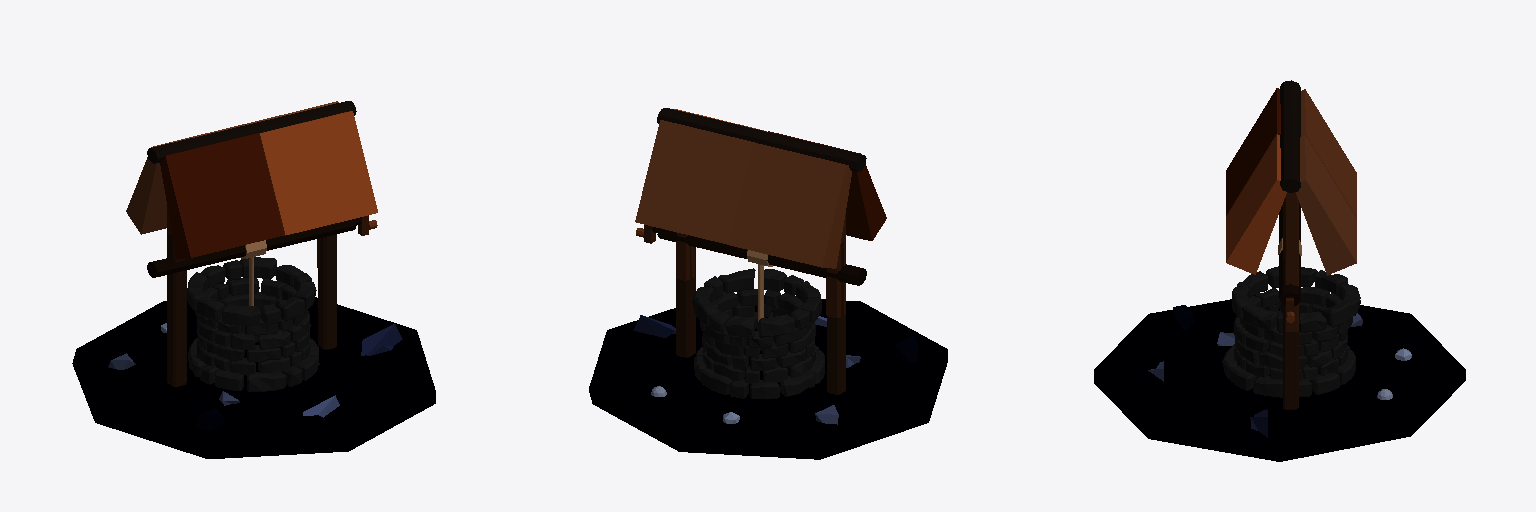
The model's file is well.obj.
The picture shows the model from 3 angles: view 1: azimuth 30°, elevation 25°; view 2: azimuth 150°, elevation 25°; view 3: azimuth 270°, elevation 25°; orthographic projection.
Visible parts, largest first — view 1: Cube; view 2: Cube; view 3: Cube.
Part boxes in pixels (left/top/right/bottom): Cube: left=72, top=101, right=435, bottom=458; Cube: left=589, top=108, right=947, bottom=459; Cube: left=1094, top=80, right=1465, bottom=461.
Bounding box in the file's own units: 9.08 × 6.88 × 9.08.